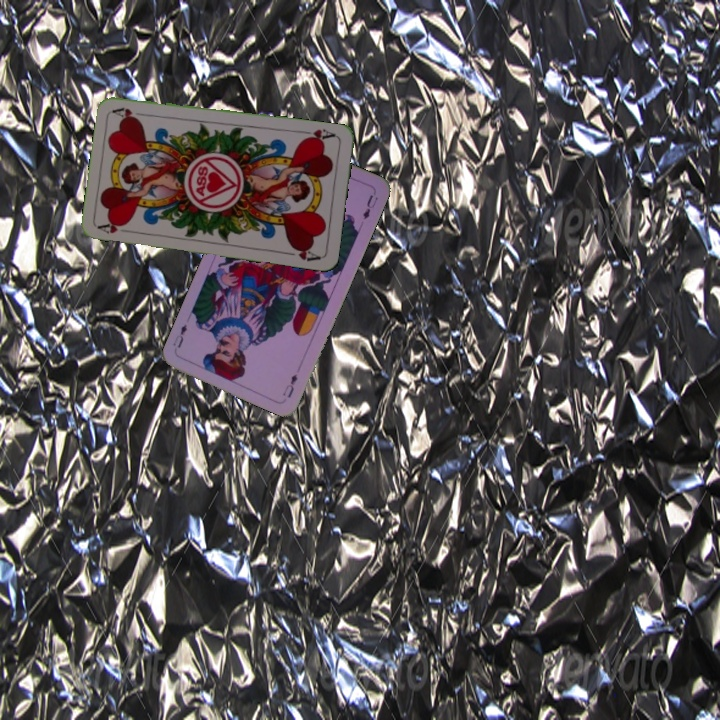EU: (279, 370, 300, 401)
HA: (298, 125, 339, 145), (95, 217, 135, 236)
